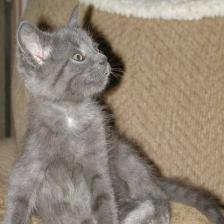cat: (13, 7, 118, 109)
